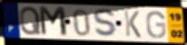0: (71, 8, 93, 37)
G: (145, 10, 168, 40)
K: (122, 9, 142, 39)
M: (38, 5, 70, 38)
Q: (19, 5, 43, 36)
S: (92, 7, 119, 39)
